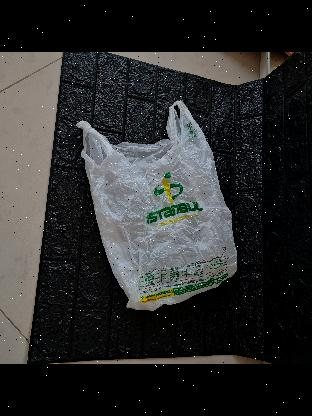Others: (71, 88, 242, 320)
